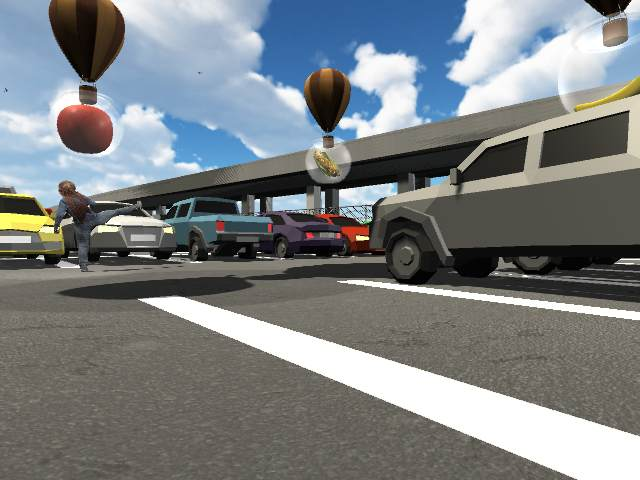turn_right: (52, 180, 144, 275)
